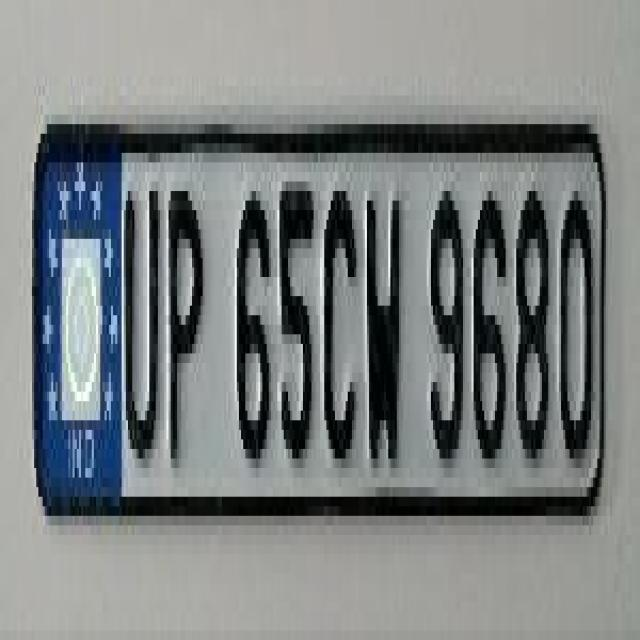0: (554, 149, 600, 487)
5: (276, 160, 318, 484)
6: (232, 161, 277, 487), (472, 183, 510, 478)
8: (512, 144, 554, 487)
9: (422, 158, 466, 472)
C: (318, 152, 364, 478)
P: (164, 147, 208, 470)
U: (120, 169, 160, 480)
W: (362, 169, 407, 483)
